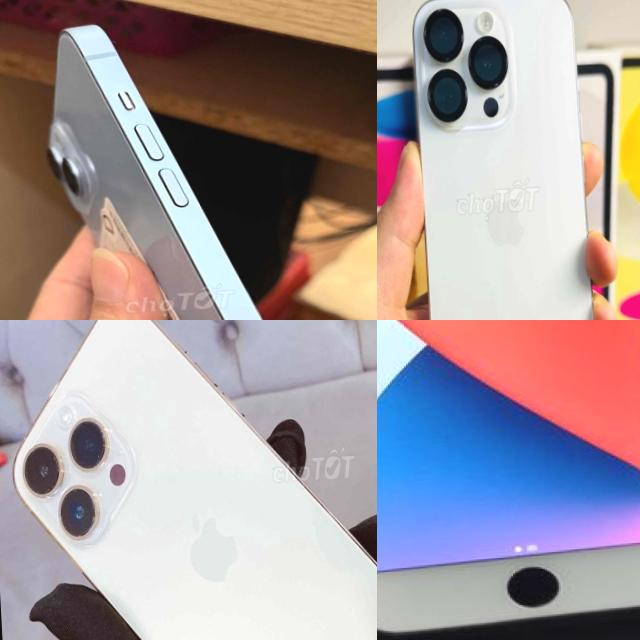gen_14: (0, 320, 377, 640), (42, 1, 371, 320)
gen_15: (400, 0, 611, 320)
gen_6: (377, 320, 640, 640)
screen_defect: (480, 540, 589, 619)
